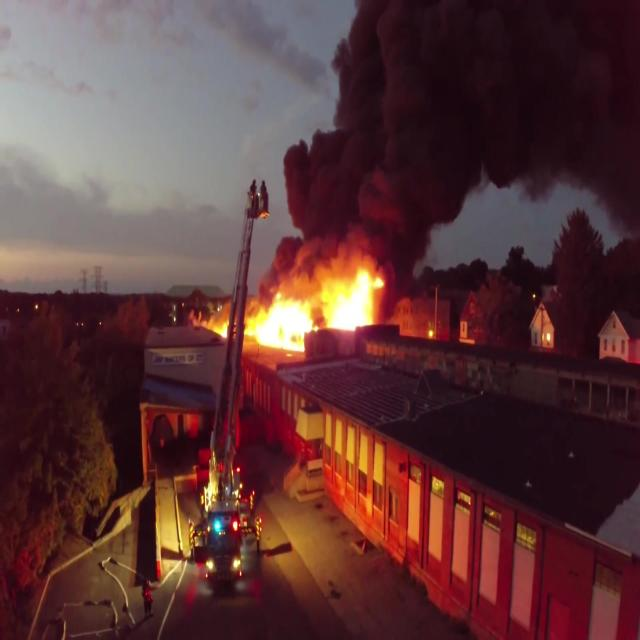smoke: (339, 0, 636, 193)
